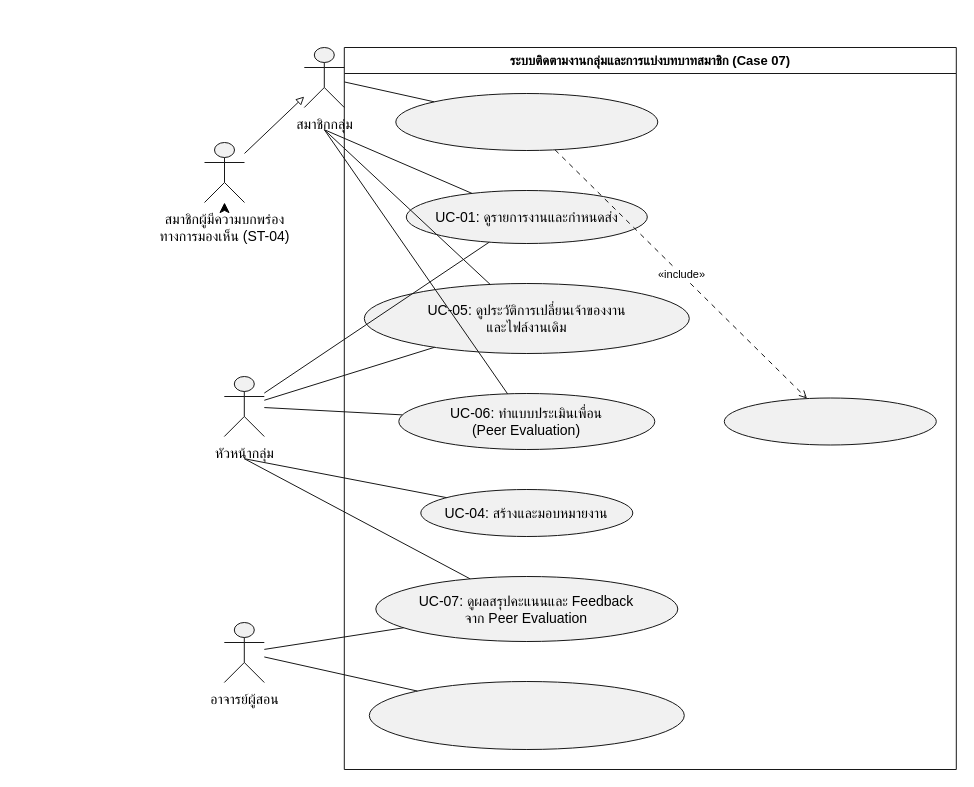
The diagram is 974 pixels wide and 787 high, and some of its shapes have lost their labels. The centre of each missing label's shape, as x and y in pixels:
UC-02: อัปเดตสถานะความคืบหน้างาน: (526,121)
UC-03: แนบหลักฐานการทำงาน: (829,421)
UC-08: ดู Dashboard สรุปภาพรวมกลุ่ม (Read-only): (526,715)
